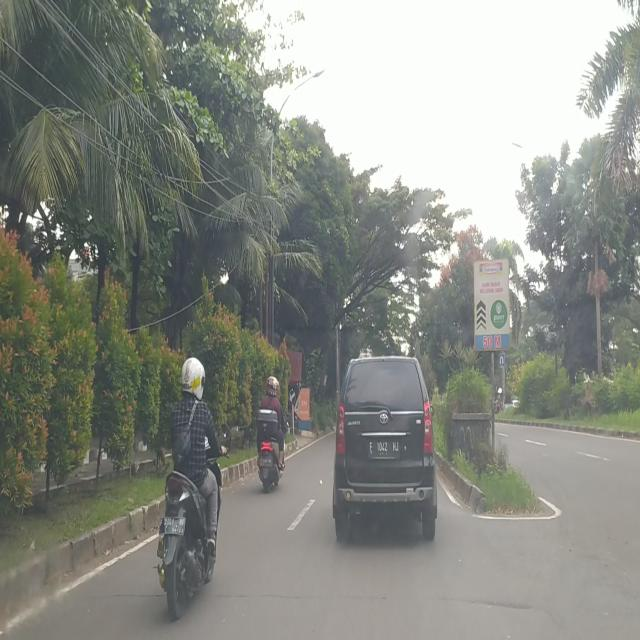Sewer Cover: (201, 588, 531, 611)
